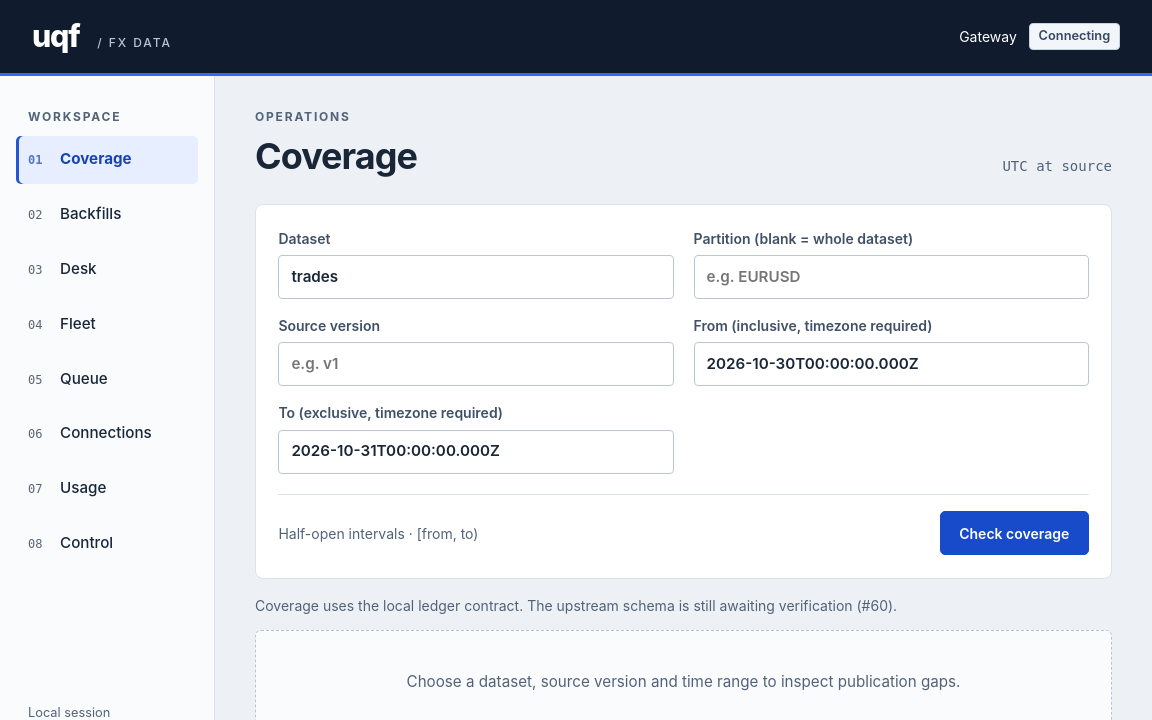
Test: shows reloads as temporary status rather than a permanent failure
Click the button "05 Queue": click(107, 379) [16,355,198,403]
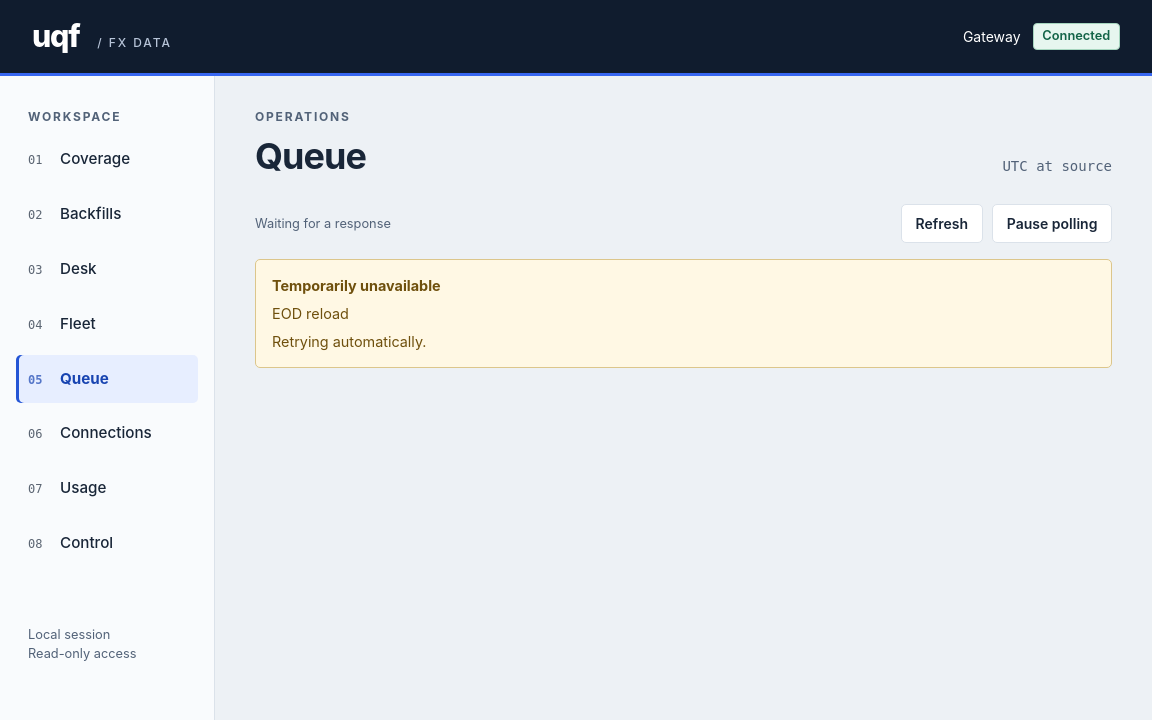
expect the text "Temporarily unavailable" is shown: met, box [272,277,441,294]
expect the text "Retrying automatically." is shown: met, box [272,333,426,350]
